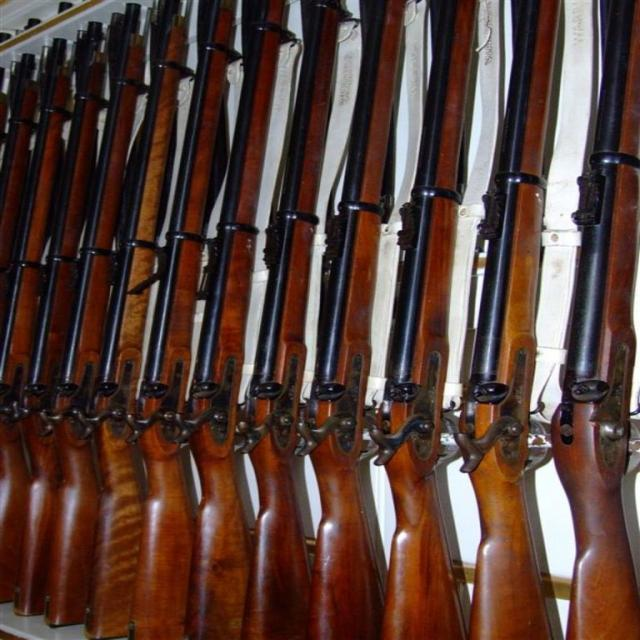weapon: (0, 0, 639, 639), (549, 0, 639, 639)
